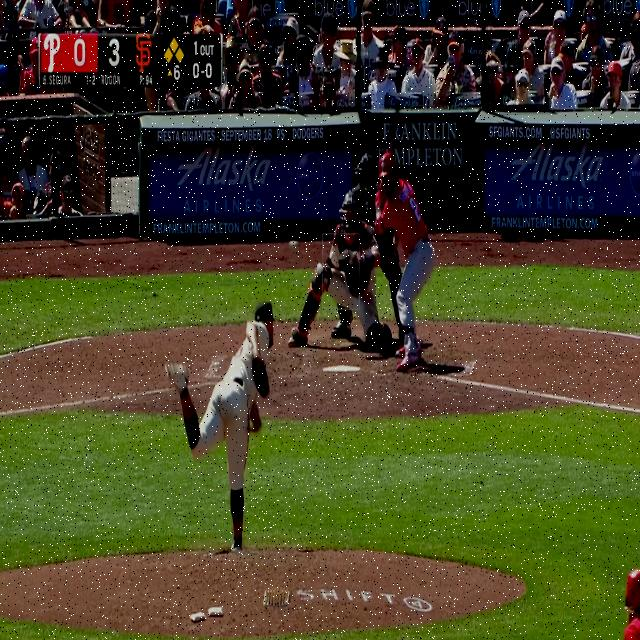baseball: (289, 240, 298, 250)
